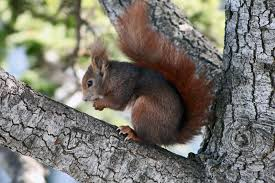Ardilla: (75, 42, 189, 144)
